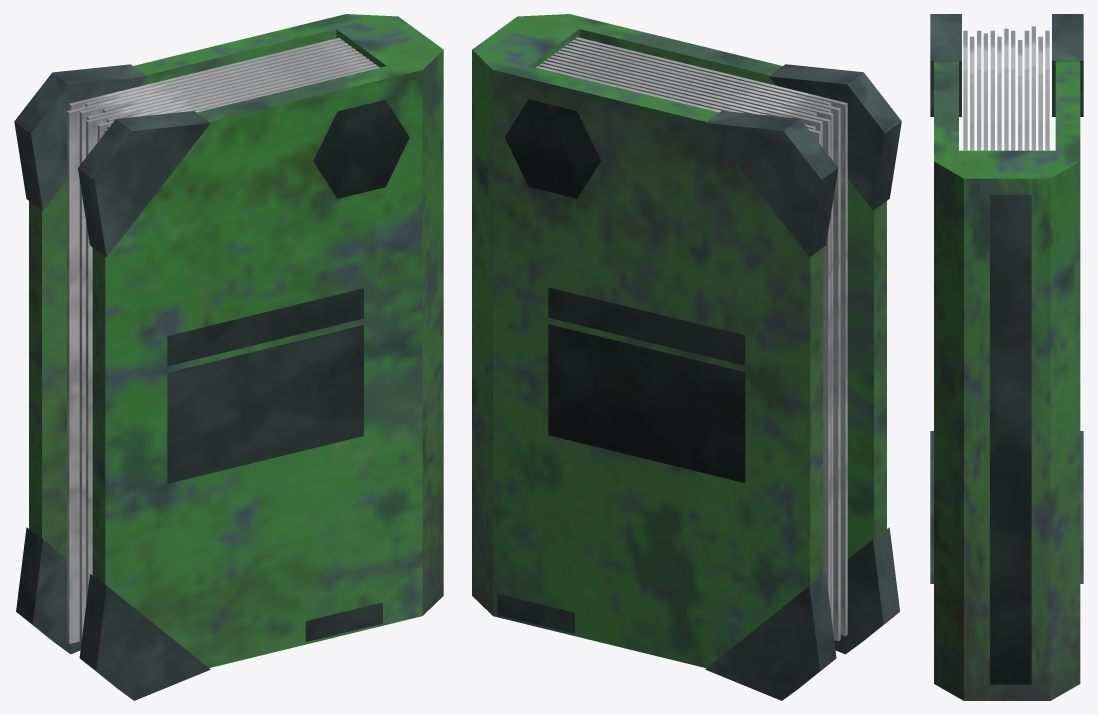
File: Book5_SM.fbx
3 views of the same model, side by side, from view 1: azimuth 30°, elevation 25°; view 2: azimuth 150°, elevation 25°; view 3: azimuth 270°, elevation 25° (orthographic). The views are drawn at different scales.
Parts seen in each view (by area): view 1: Book_SM001; view 2: Book_SM001; view 3: Book_SM001.
Boxes of the visible parts, bbox=[...] form: Book_SM001: bbox=[14, 14, 443, 700]; Book_SM001: bbox=[472, 14, 901, 700]; Book_SM001: bbox=[930, 14, 1083, 700].
Size of the model in its own units: 28.54 by 42.4 by 10.81.
